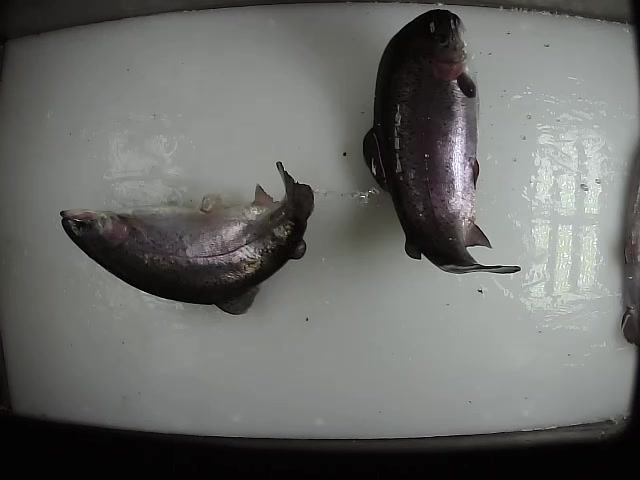fish: (360, 7, 522, 277), (57, 159, 317, 319)
